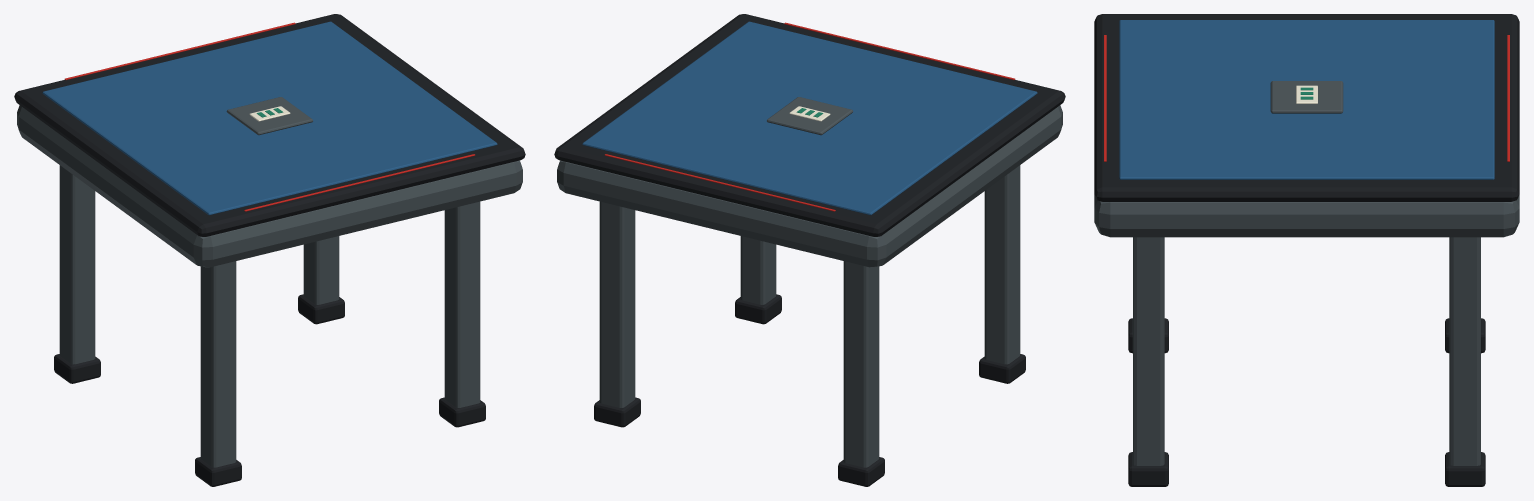
File: MahjongTable.fbx
The picture shows the model from 3 angles, left to right: view 1: azimuth 30°, elevation 25°; view 2: azimuth 150°, elevation 25°; view 3: azimuth 270°, elevation 25°; orthographic projection. The views are drawn at different scales.
Parts seen in each view (by area): view 1: Felt, Rim, Base, Leg_-1_-1, Leg_1_-1, Leg_-1_1, Leg_1_1, CenterPanel, Foot_-1_-1, Foot_1_-1, Foot_-1_1, Foot_1_1 (+2 smaller); view 2: Felt, Rim, Base, Leg_-1_1, Leg_1_1, Leg_-1_-1, Leg_1_-1, CenterPanel, Foot_-1_1, Foot_1_1, Foot_-1_-1, Foot_1_-1 (+2 smaller); view 3: Felt, Rim, Base, Leg_1_-1, Leg_1_1, CenterPanel, Foot_1_-1, Foot_1_1.
Boxes of the visible parts, <box> form: Felt: <box>42,21,497,215</box>; Rim: <box>14,14,525,236</box>; Base: <box>17,105,522,267</box>; Leg_-1_-1: <box>200,261,236,467</box>; Leg_1_-1: <box>444,201,480,407</box>; Leg_-1_1: <box>59,165,95,364</box>; Leg_1_1: <box>303,236,339,304</box>; CenterPanel: <box>226,97,312,135</box>; Foot_-1_-1: <box>195,457,241,486</box>; Foot_1_-1: <box>439,397,485,427</box>; Foot_-1_1: <box>54,354,100,383</box>; Foot_1_1: <box>298,294,344,324</box>; Felt: <box>582,21,1037,215</box>; Rim: <box>554,14,1065,236</box>; Base: <box>557,105,1062,267</box>; Leg_-1_1: <box>843,261,879,467</box>; Leg_1_1: <box>599,201,635,407</box>; Leg_-1_-1: <box>984,165,1020,364</box>; Leg_1_-1: <box>740,236,776,304</box>; CenterPanel: <box>767,97,853,135</box>; Foot_-1_1: <box>838,457,884,486</box>; Foot_1_1: <box>594,397,640,427</box>; Foot_-1_-1: <box>979,354,1025,383</box>; Foot_1_-1: <box>735,294,781,324</box>; Felt: <box>1119,20,1494,179</box>; Rim: <box>1094,14,1519,201</box>; Base: <box>1094,195,1519,237</box>; Leg_1_-1: <box>1133,237,1164,465</box>; Leg_1_1: <box>1449,237,1480,465</box>; CenterPanel: <box>1270,81,1343,113</box>; Foot_1_-1: <box>1128,452,1168,486</box>; Foot_1_1: <box>1445,452,1485,486</box>.
Bounding box in the file's own units: 0.94 × 0.7795 × 0.94.
